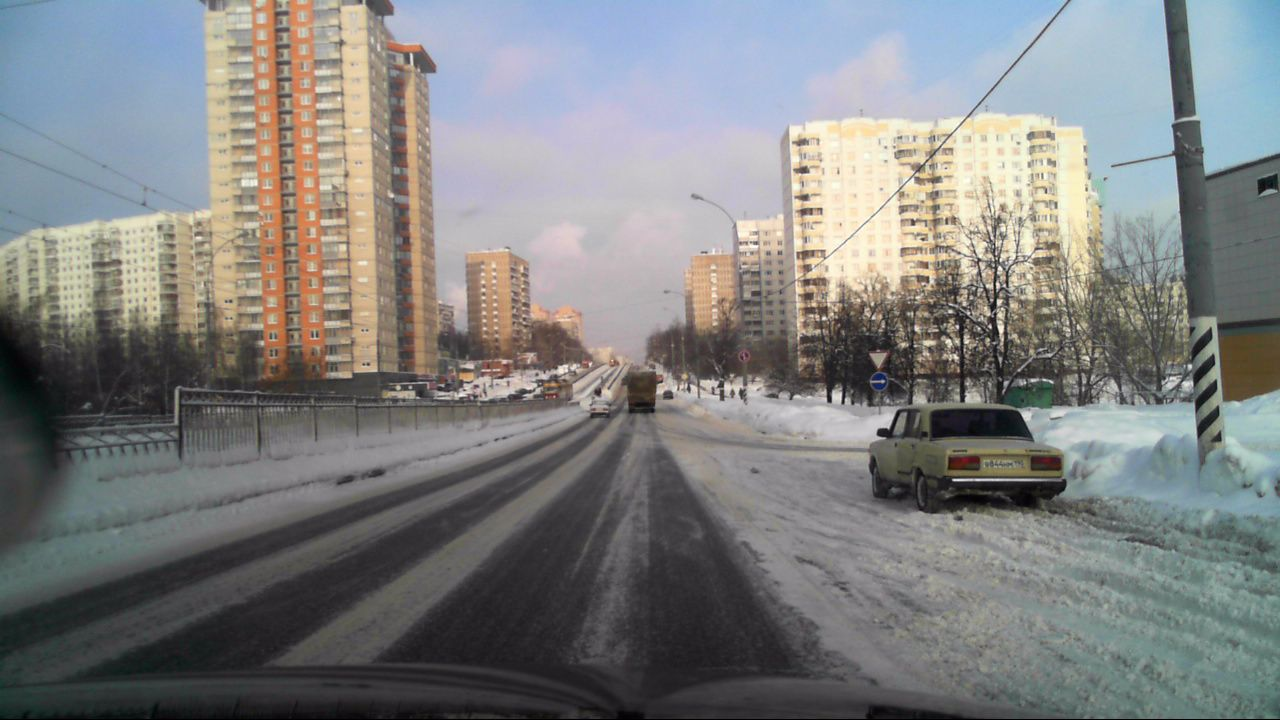Turn Right: (870, 372, 888, 391)
